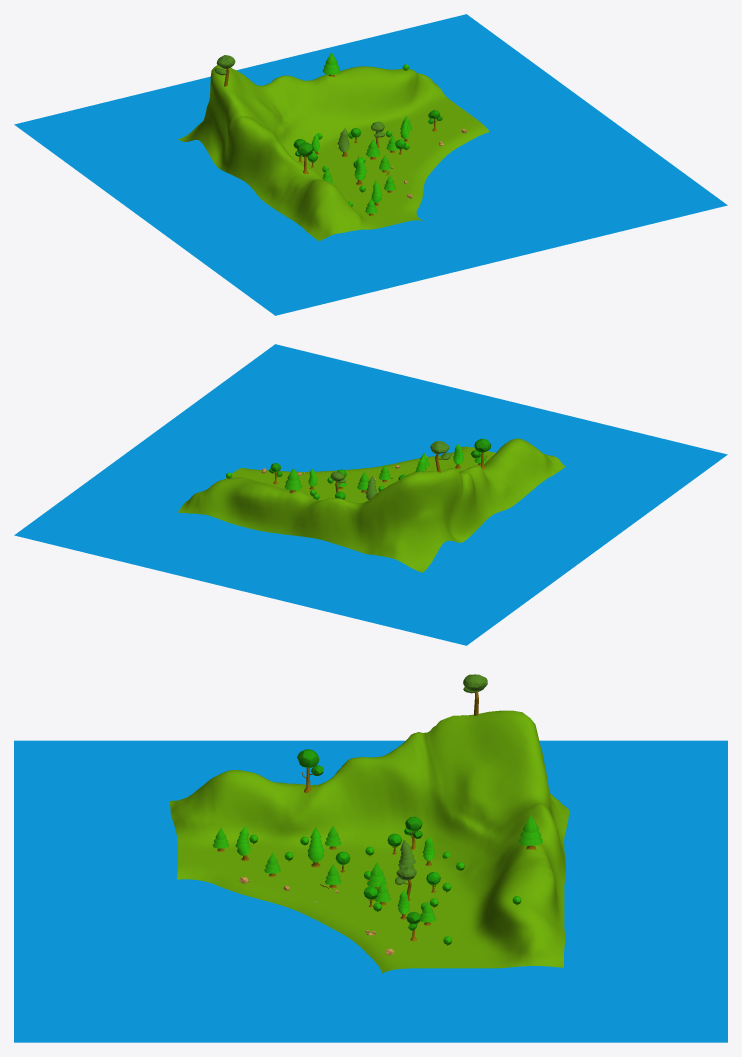
The model's file is fishing.glb.
3 views of the same model, one above another, from view 1: azimuth 30°, elevation 25°; view 2: azimuth 150°, elevation 25°; view 3: azimuth 270°, elevation 25° (orthographic). The views are drawn at different scales.
Parts seen in each view (by area): view 1: fishing.001; view 2: fishing.001; view 3: fishing.001.
Part boxes in pixels (<box>): fishing.001: <box>14,14,727,315</box>; fishing.001: <box>14,344,727,645</box>; fishing.001: <box>14,674,727,1042</box>.
Bounding box in the file's own units: 243 × 56.3 × 243.
